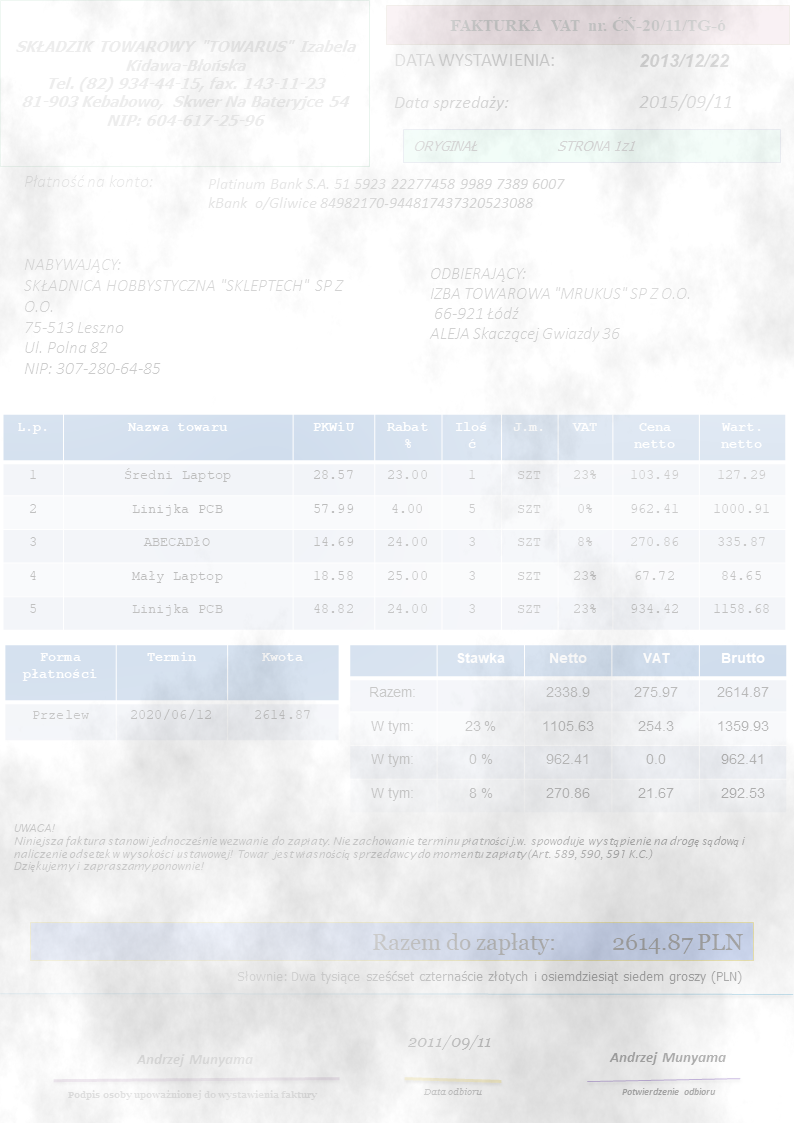Table: (1, 413, 787, 632), (347, 641, 789, 817), (3, 643, 341, 742)
TextBox: (20, 252, 348, 379), (11, 819, 751, 874), (13, 34, 362, 132), (427, 262, 692, 346), (204, 174, 567, 214), (234, 965, 744, 990), (370, 926, 745, 958), (445, 13, 727, 36), (411, 133, 638, 156), (390, 46, 554, 72), (64, 1087, 319, 1102), (391, 90, 511, 114), (21, 170, 154, 191), (636, 89, 734, 114), (131, 1050, 259, 1069), (607, 1049, 728, 1068), (636, 49, 732, 72), (403, 1031, 493, 1052), (618, 1084, 716, 1099), (420, 1083, 485, 1101)
